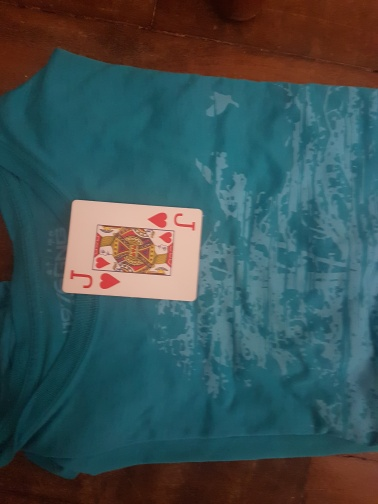jack: (63, 199, 202, 303)
